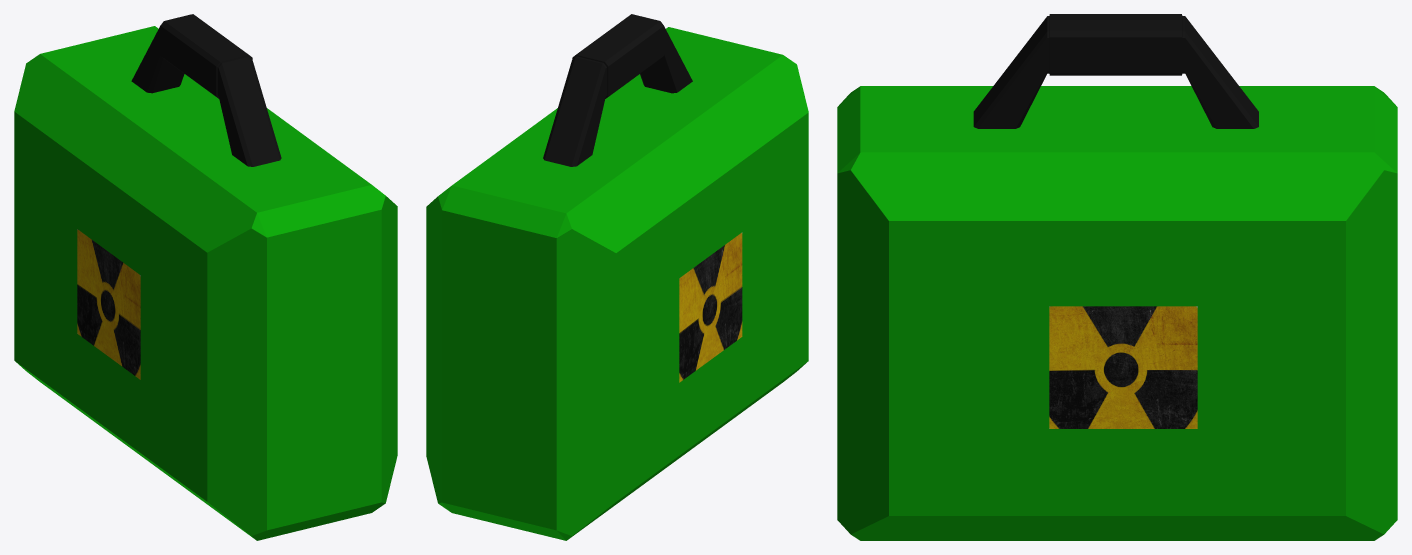
The model's file is Case.fbx.
3 renders of one model, left to right at view 1: azimuth 30°, elevation 25°; view 2: azimuth 150°, elevation 25°; view 3: azimuth 270°, elevation 25°, orthographic. The views are drawn at different scales.
Parts seen in each view (by area): view 1: Cube; view 2: Cube; view 3: Cube.
Boxes of the visible parts, x1,y1,x2,y2 form: Cube: (14,14,397,540); Cube: (426,14,808,540); Cube: (837,14,1397,540).
Bounding box in the file's own units: 75.47 × 155 × 162.
